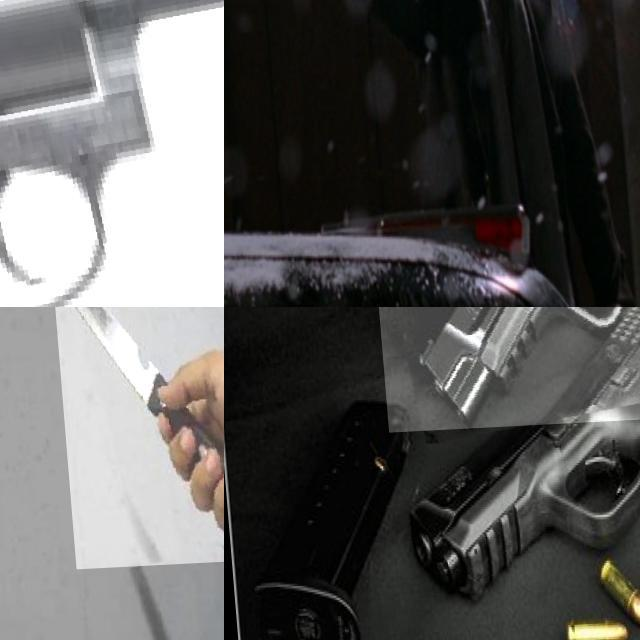-: (46, 307, 224, 572)
gun-knife-thesis - v11 Yolov5 augmented: (385, 307, 640, 609), (0, 0, 224, 307), (360, 307, 640, 488), (281, 0, 359, 58)
